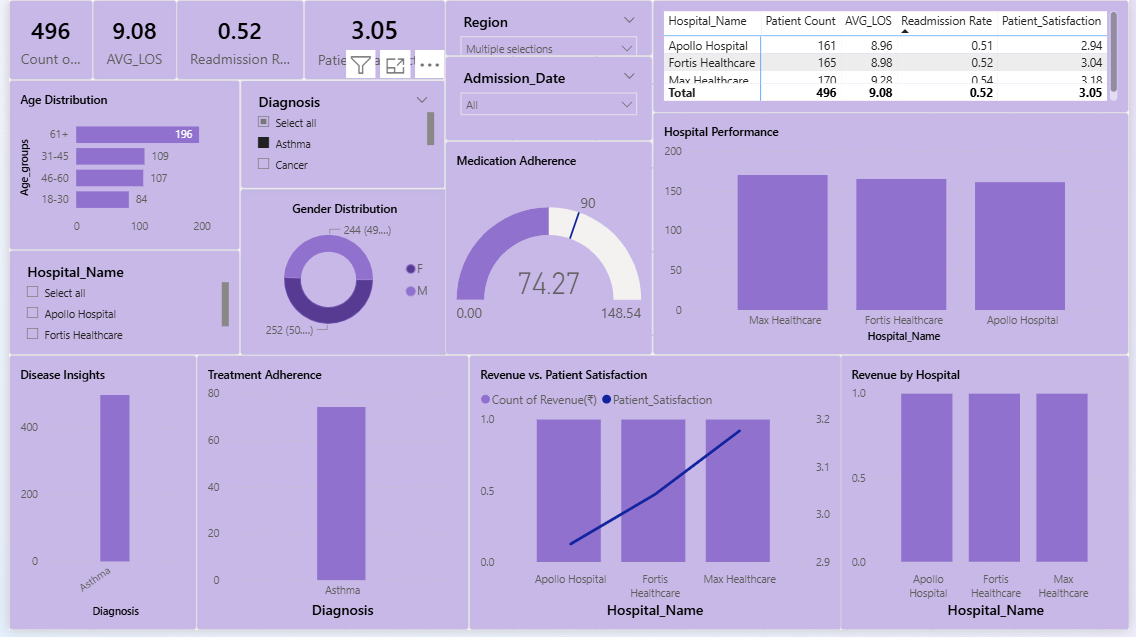

The dashboard page shown, as its layout file describes it:
{"tool":"powerbi","page":{"name":"Find Dashboard","canvas":[1280,720],"ordinal":1},"visuals":[{"type":"pivotTable","fields":{"Rows":["Hospital.Hospital_Name"],"Values":["CountNonNull(Patient.Patient_ID)","Patient.AVG_LOS","Patient.Readmission Rate (%)","Patient.Patient_Satisfaction"]},"box":[735.7,0,544.3,154.3],"z":0},{"type":"clusteredColumnChart","title":"Hospital Performance","fields":{"Category":["Hospital.Hospital_Name"],"Y":["CountNonNull(Patient.Patient_ID)"]},"box":[735.7,154.3,544.3,251.4],"z":1000},{"type":"slicer","fields":{"Values":["Patient.Region"]},"box":[498.6,0,237.1,81.4],"z":2000},{"type":"barChart","title":"Age Distribution","fields":{"Y":["CountNonNull(Patient.Patient_ID)"],"Category":["Patient.Age_groups"]},"box":[0,91.4,264.3,194.3],"z":3000},{"type":"donutChart","title":"Gender Distribution","fields":{"Category":["Patient.Gender"],"Y":["CountNonNull(Patient.Patient_ID)"]},"box":[264.3,215.7,237.1,190],"z":4000},{"type":"slicer","fields":{"Values":["Patient.Diagnosis"]},"box":[264.3,91.4,237.1,124.3],"z":5000},{"type":"slicer","fields":{"Values":["Hospital.Hospital_Name"]},"box":[0,285.7,264.3,120],"z":6000},{"type":"slicer","fields":{"Values":["Patient.Admission_Date"]},"box":[498.6,81.4,237.1,80],"z":7000},{"type":"gauge","title":"Medication Adherence","fields":{"TargetValue":["Patient.Target Value"],"Y":["Patient.Avg_of_Treament_Adherence"]},"box":[498.6,161.4,237.1,244.3],"z":8000},{"type":"columnChart","title":"Disease Insights","fields":{"Category":["Patient.Diagnosis"],"Y":["CountNonNull(Patient.Patient_ID)"]},"box":[0,405.7,264.3,314.3],"z":9000},{"type":"clusteredColumnChart","title":"Revenue by Hospital","fields":{"Category":["Hospital.Hospital_Name"],"Y":["CountNonNull(Hospital.Revenue(₹))"]},"box":[950,405.7,330,314.3],"z":10000},{"type":"columnChart","title":"Treatment Adherence","fields":{"Category":["Patient.Diagnosis"],"Y":["Patient.Avg_of_Treament_Adherence"]},"box":[264.3,405.7,261.4,314.3],"z":11000},{"type":"lineStackedColumnComboChart","title":"Revenue vs. Patient Satisfaction","fields":{"Y2":["Patient.Patient_Satisfaction"],"Category":["Hospital.Hospital_Name"],"Y":["CountNonNull(Hospital.Revenue(₹))"]},"box":[525.7,405.7,425.7,314.3],"z":12000},{"type":"card","title":"Patient Count","fields":{"Values":["CountNonNull(Patient.Patient_ID)"]},"box":[356.7,0,142.2,91.1],"z":13000},{"type":"textbox","box":[0,0,357.1,91.4],"z":14000},{"type":"textbox","box":[11.4,97.1,47.1,48.6],"z":15000},{"type":"image","box":[0,0,94.3,112.9],"z":16000}]}

Visuals, with their boxes in screenshot pixels (x1, y1, x2, y2), scaled from the page's 1280x720 canvas onto the 1136x637 screenshot:
pivotTable - Hospital.Hospital_Name x CountNonNull(Patient.Patient_ID): <box>653,0,1135,137</box>
"Hospital Performance" clusteredColumnChart: <box>653,137,1135,359</box>
slicer - Patient.Region: <box>443,0,653,72</box>
"Age Distribution" barChart: <box>0,81,235,253</box>
"Gender Distribution" donutChart: <box>235,191,445,359</box>
slicer - Patient.Diagnosis: <box>235,81,445,191</box>
slicer - Hospital.Hospital_Name: <box>0,253,235,359</box>
slicer - Patient.Admission_Date: <box>443,72,653,143</box>
"Medication Adherence" gauge: <box>443,143,653,359</box>
"Disease Insights" columnChart: <box>0,359,235,636</box>
"Revenue by Hospital" clusteredColumnChart: <box>843,359,1135,636</box>
"Treatment Adherence" columnChart: <box>235,359,467,636</box>
"Revenue vs. Patient Satisfaction" lineStackedColumnComboChart: <box>467,359,844,636</box>
"Patient Count" card: <box>317,0,443,81</box>
textbox: <box>0,0,317,81</box>
textbox: <box>10,86,52,129</box>
image: <box>0,0,84,100</box>
